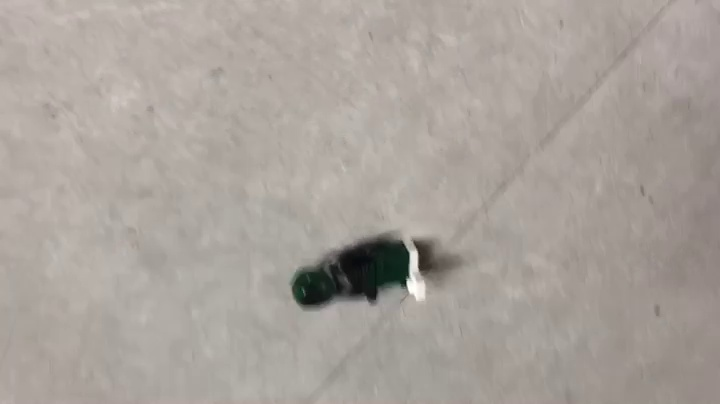people: (291, 233, 428, 312)
